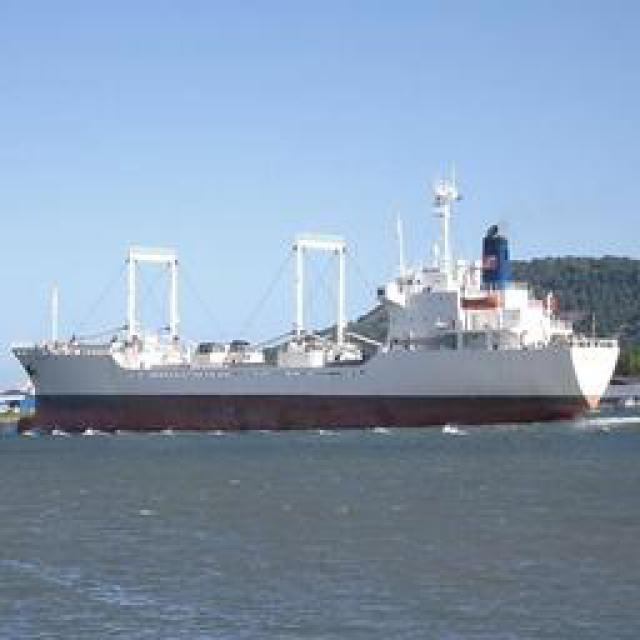Ship: (15, 184, 628, 429)
